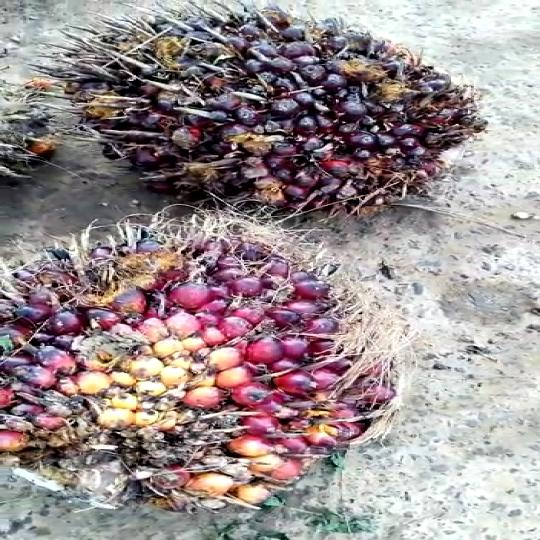masak: (0, 220, 411, 520), (35, 4, 513, 215)
